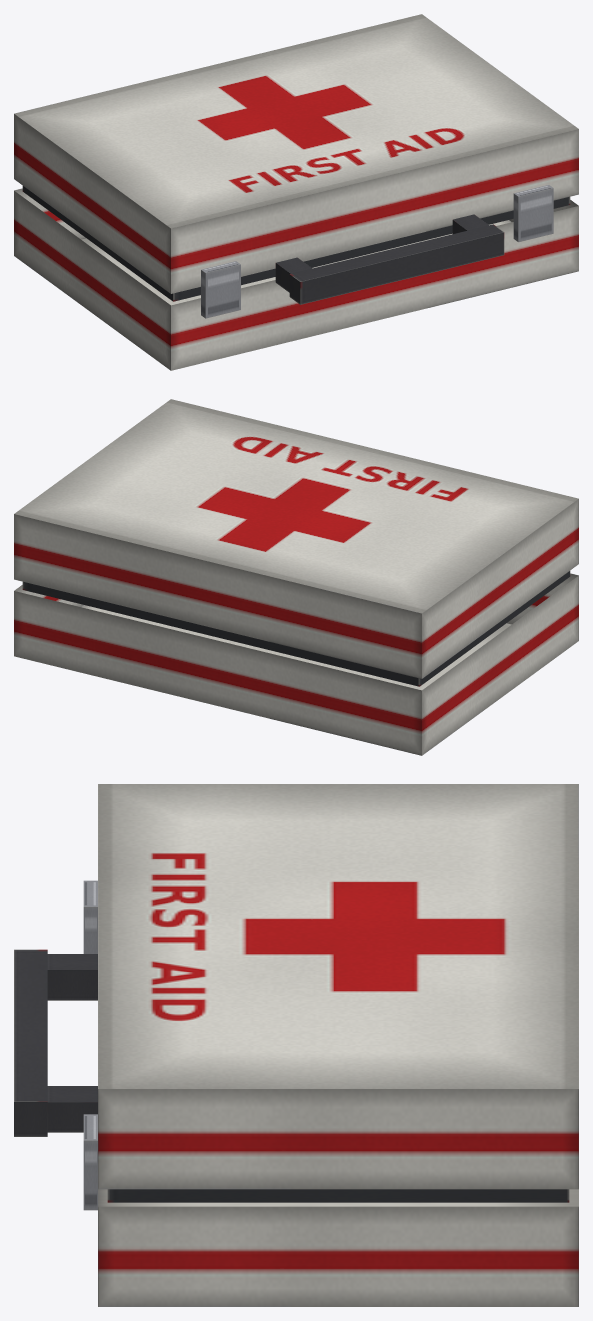
The model's file is SM_Medkit.fbx.
The picture shows the model from 3 angles, top to bottom: view 1: azimuth 30°, elevation 25°; view 2: azimuth 150°, elevation 25°; view 3: azimuth 270°, elevation 25°; orthographic projection. The views are drawn at different scales.
Visible parts, largest first — view 1: SM_Medkit; view 2: SM_Medkit; view 3: SM_Medkit.
Part boxes in pixels (box(x1,y1,x2,y2)): SM_Medkit: box(14, 14, 578, 370); SM_Medkit: box(14, 399, 578, 755); SM_Medkit: box(14, 784, 578, 1306).
Bounding box in the file's own units: 0.3 × 0.1 × 0.235.
Materials: 1 (1 with a texture image).
